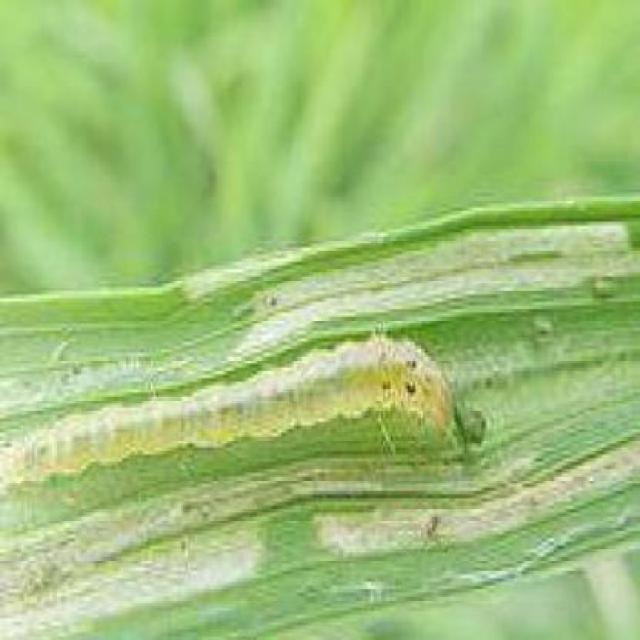leaf-folder: (4, 355, 502, 493)
